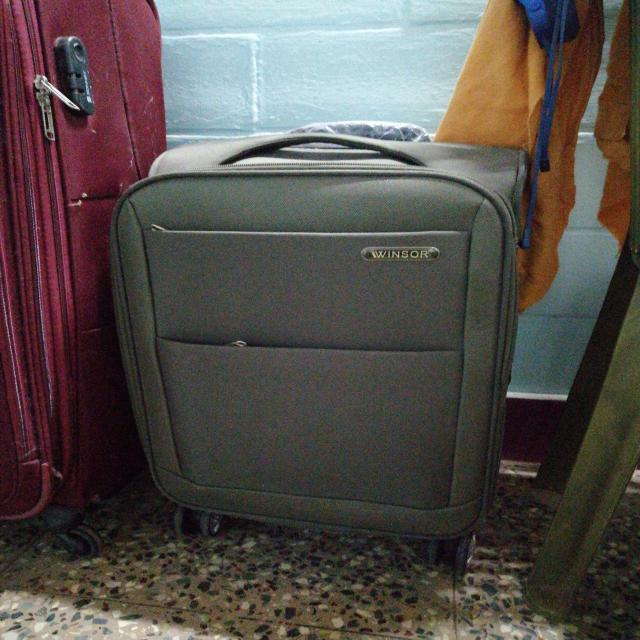suitcaserotation: (102, 127, 534, 578)
